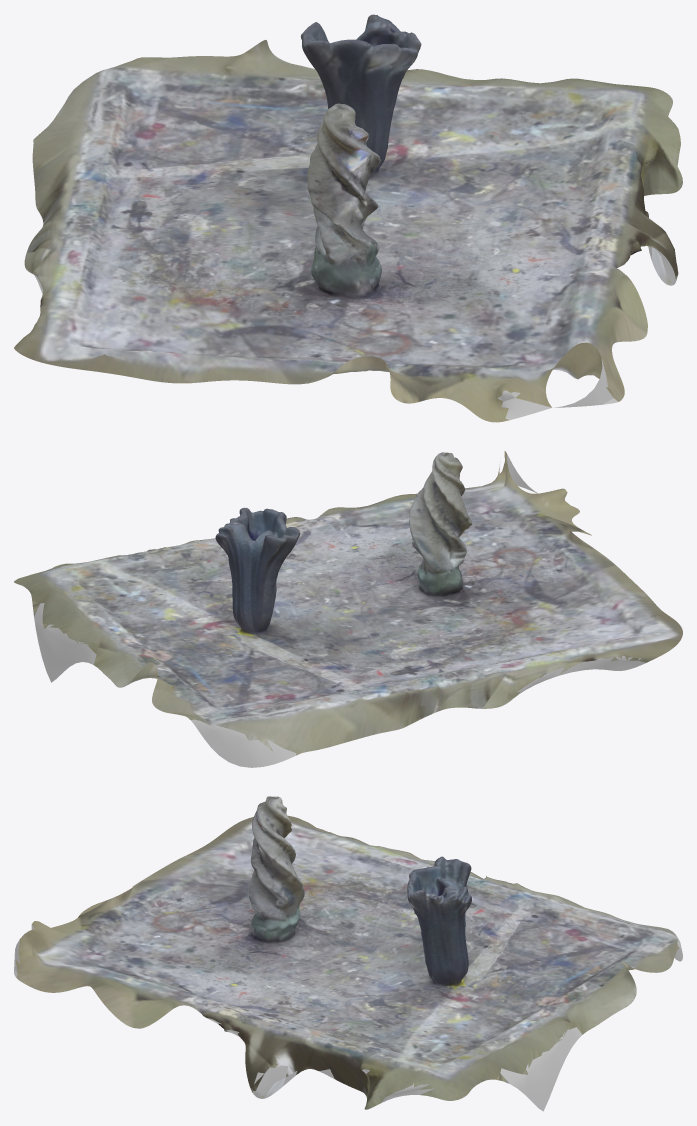
File: xQKC0DJCr2xMitDjfqrKVG4uqEA.glb
3 renders of one model, top to bottom at view 1: azimuth 30°, elevation 25°; view 2: azimuth 150°, elevation 25°; view 3: azimuth 270°, elevation 25°, orthographic. The views are drawn at different scales.
Parts seen in each view (by area): view 1: Object_2, Object_3; view 2: Object_2, Object_3; view 3: Object_2, Object_3.
Boxes of the visible parts, x1,y1,x2,y2 form: Object_2: (14,14,682,422); Object_3: (32,160,676,419); Object_2: (14,451,682,755); Object_3: (34,454,645,767); Object_2: (15,796,679,1109); Object_3: (14,924,682,1111).
Size of the model in its own units: 49.21 by 15.79 by 50.41.
Materials: 2 (1 with a texture image).
